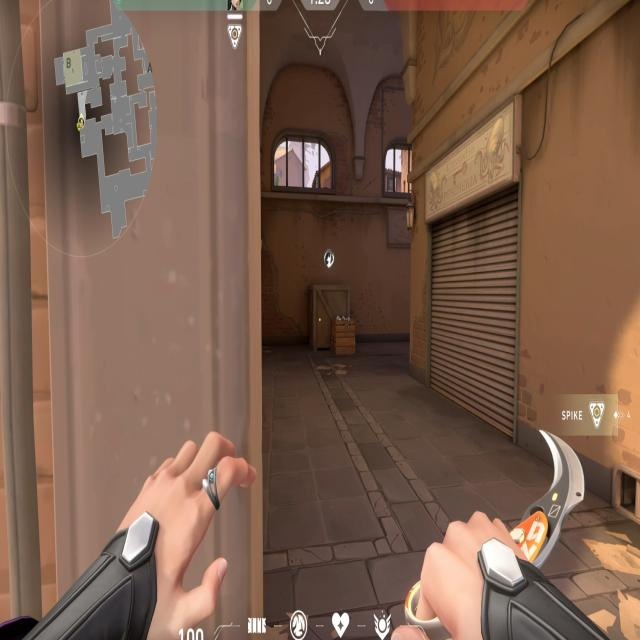B_Main_Wallbang: (309, 242, 360, 367)
Throwables: (269, 127, 337, 199), (380, 139, 419, 210)
